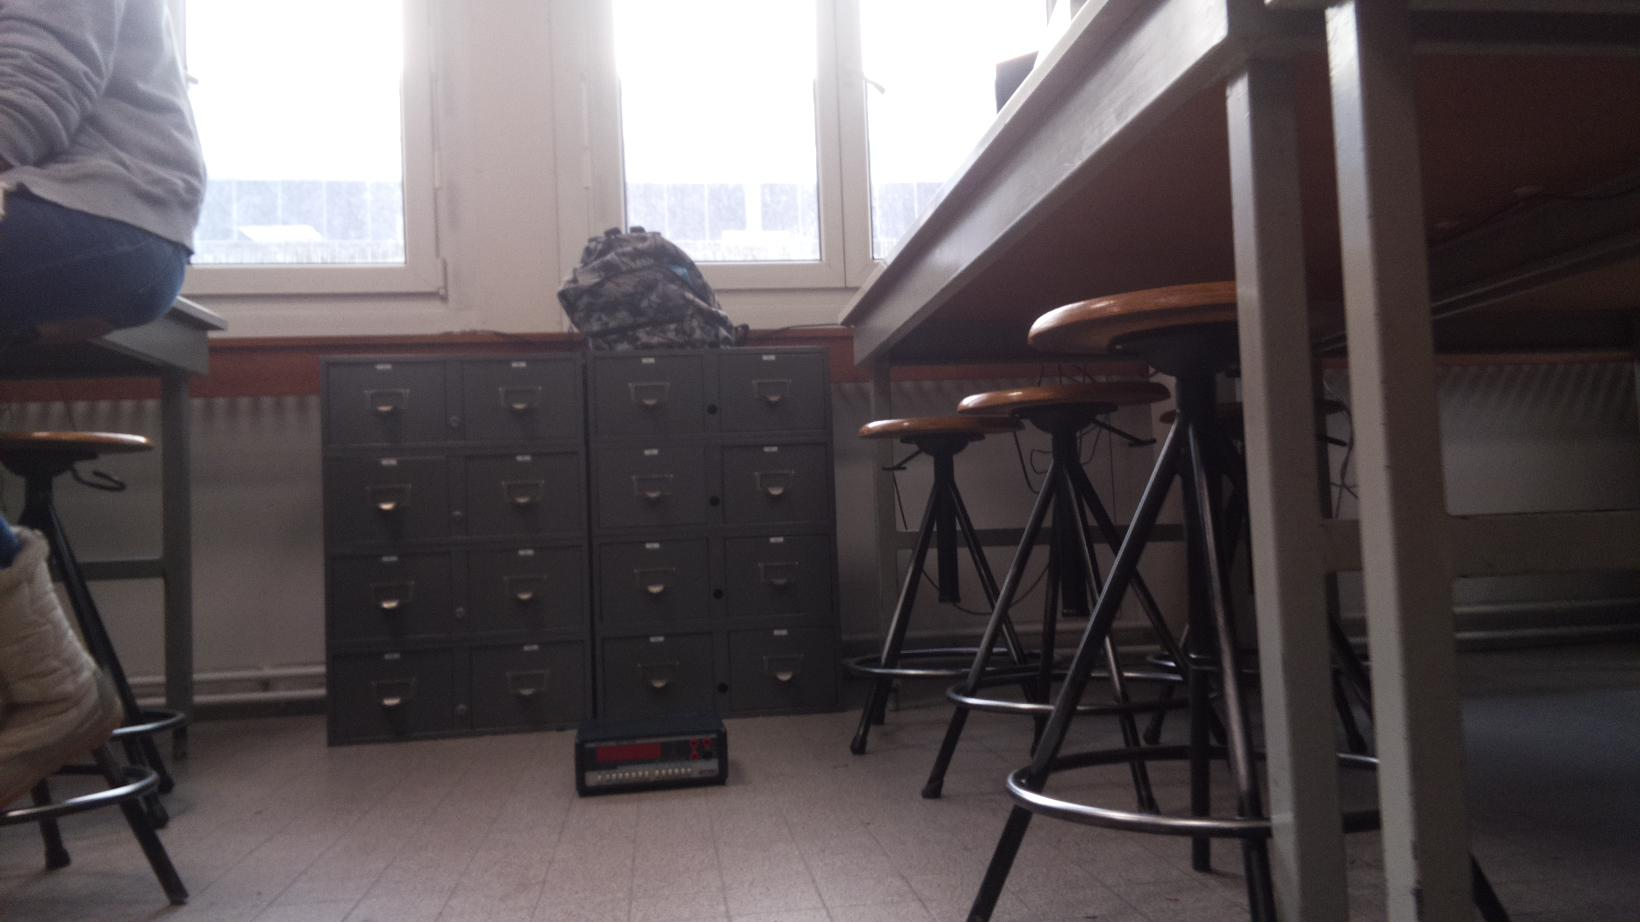big: (559, 227, 739, 352)
medium: (573, 715, 734, 793)
